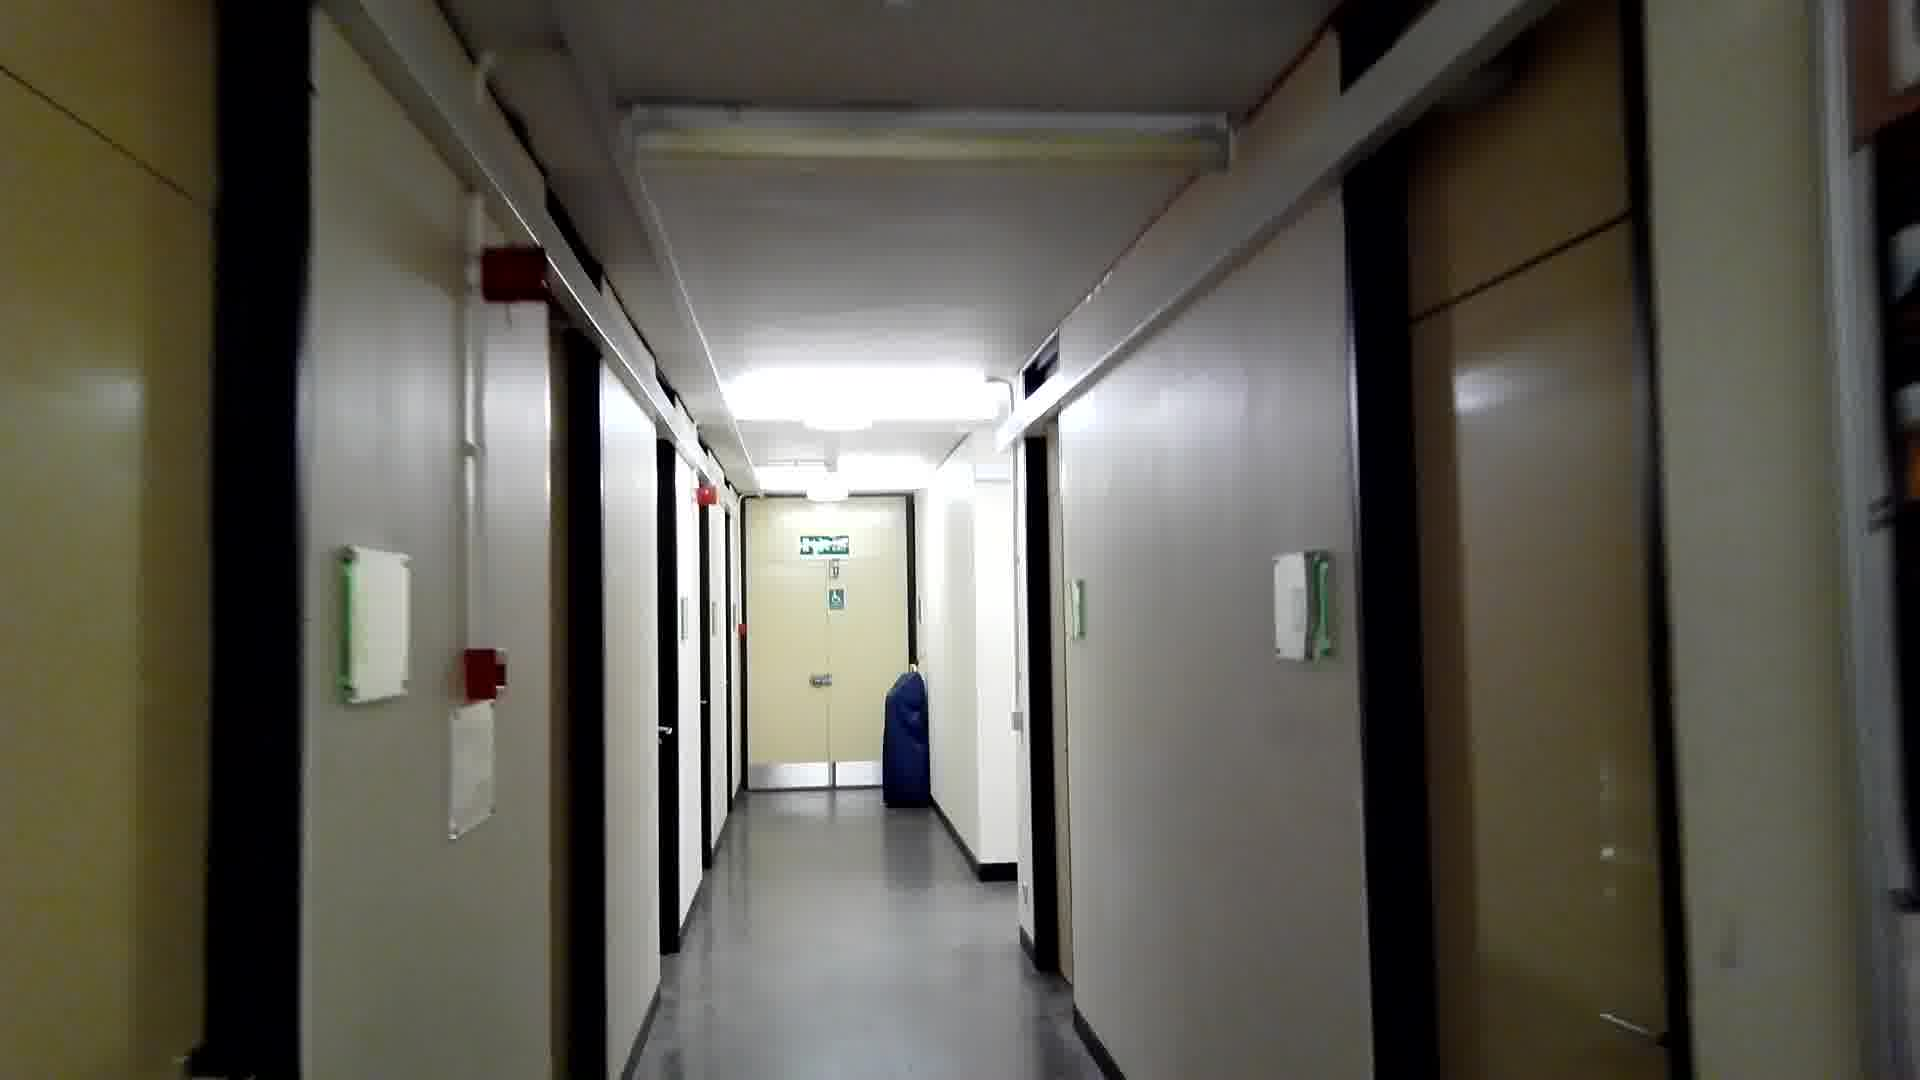Bin: (880, 659, 936, 822)
Door: (1325, 28, 1768, 1080)
